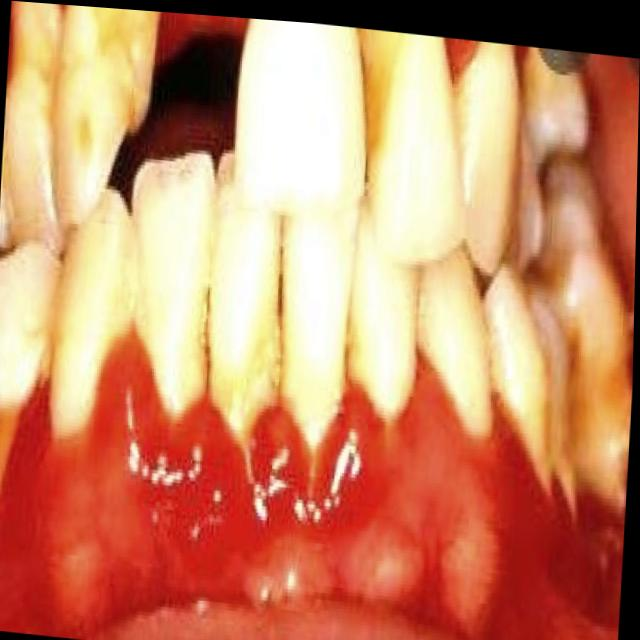gingivitis: (85, 372, 536, 607)
